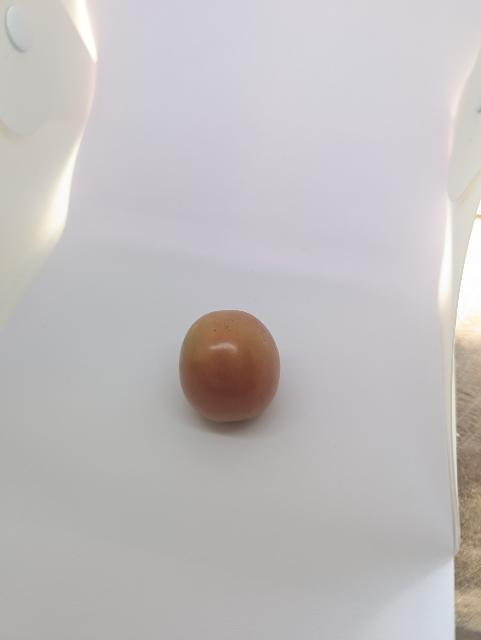turning: (176, 301, 288, 427)
